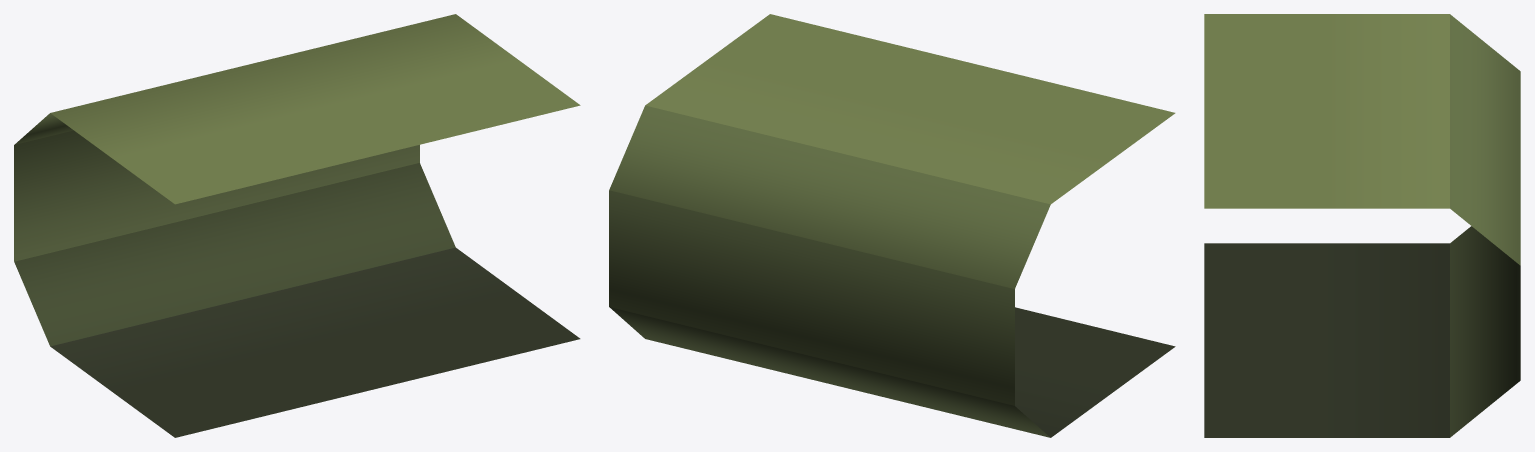
File: grass_top_1x12_old.fbx
The picture shows the model from 3 angles, left to right: view 1: azimuth 30°, elevation 25°; view 2: azimuth 150°, elevation 25°; view 3: azimuth 270°, elevation 25°; orthographic projection.
Parts seen in each view (by area): view 1: grass_top_1x12_old; view 2: grass_top_1x12_old; view 3: grass_top_1x12_old.
Boxes of the visible parts, x1=… form: grass_top_1x12_old: x1=14, y1=14, x2=580, y2=437; grass_top_1x12_old: x1=609, y1=14, x2=1175, y2=437; grass_top_1x12_old: x1=1204, y1=14, x2=1520, y2=437.
Size of the model in its own units: 100 by 55 by 68.72.
